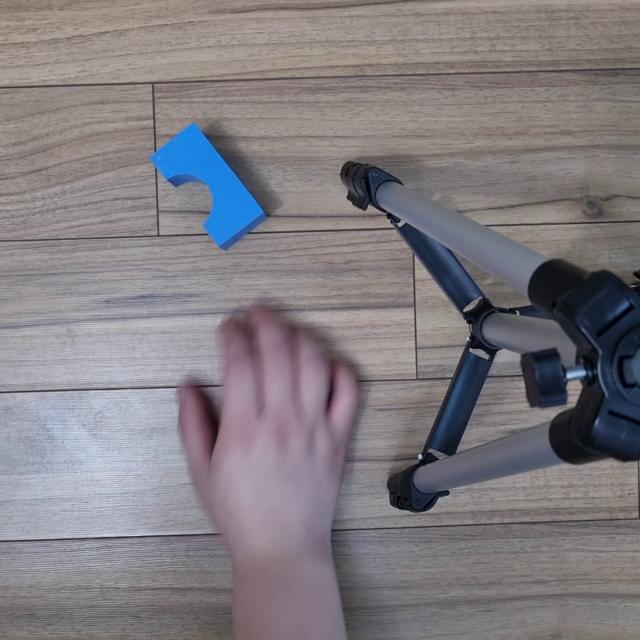block: (151, 118, 271, 257)
hand: (186, 289, 370, 556)
